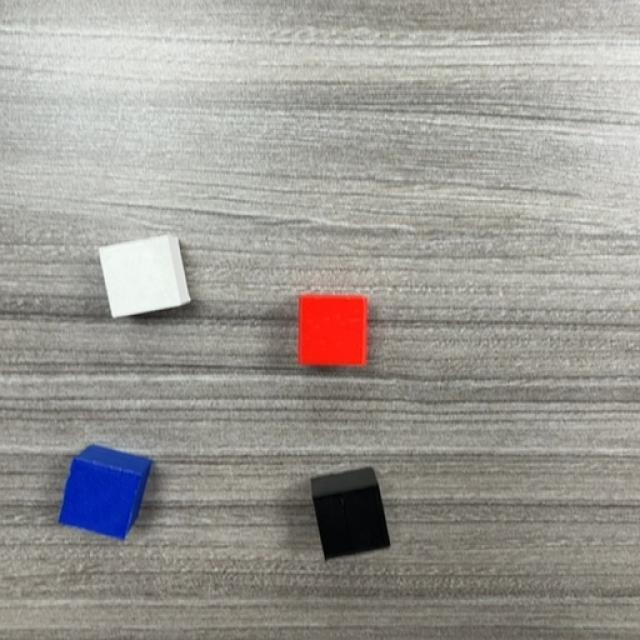Azul: (66, 461, 140, 540)
Blanco: (98, 234, 190, 318)
Negro: (313, 486, 388, 552)
Rojo: (297, 297, 370, 365)
